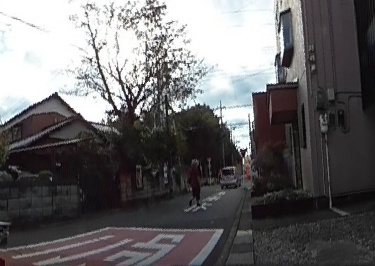person: (186, 159, 201, 204)
